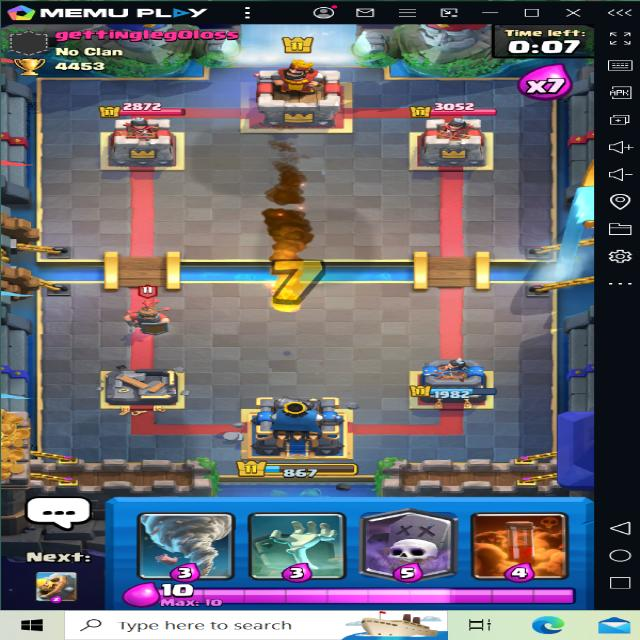fireball: (264, 276, 308, 315)
royal-recruits: (110, 282, 177, 340)
